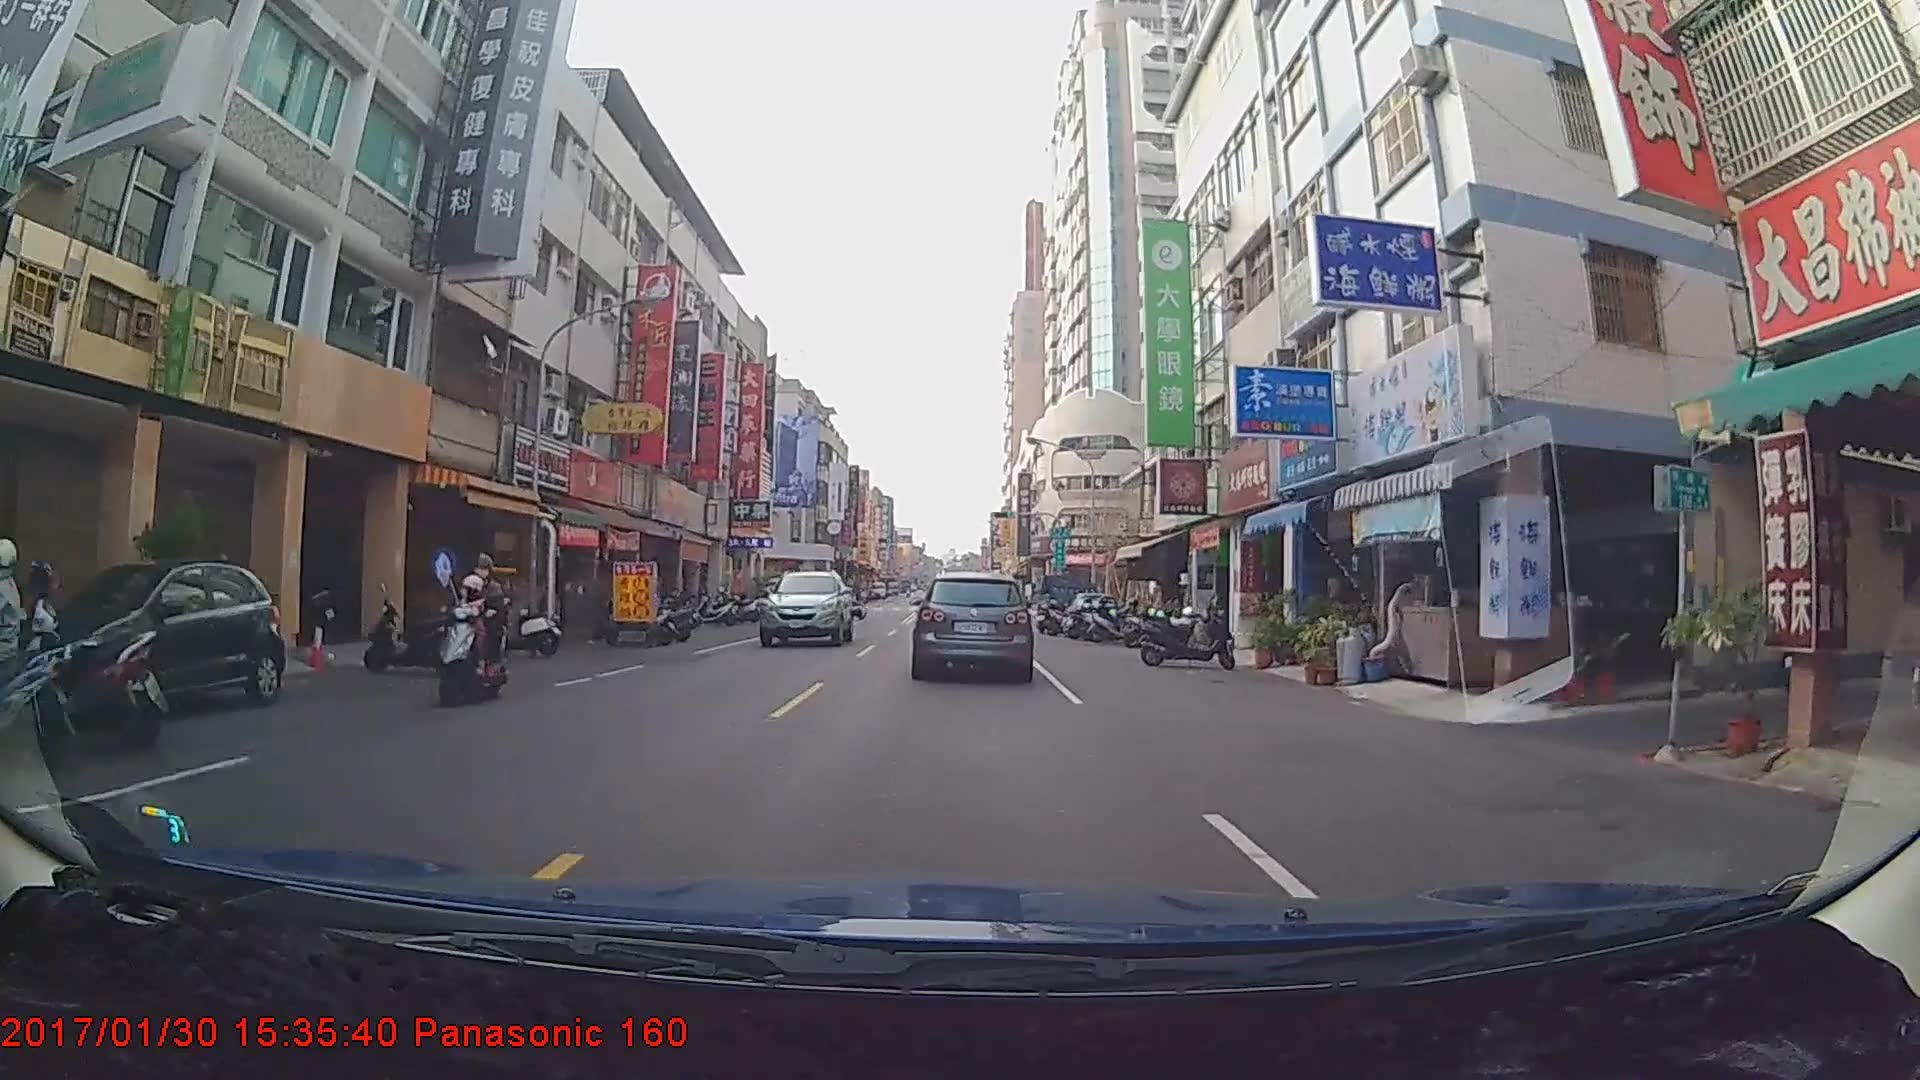rider: (439, 545, 522, 706)
vehicle: (911, 569, 1032, 682), (756, 570, 856, 648), (1034, 573, 1098, 629)
